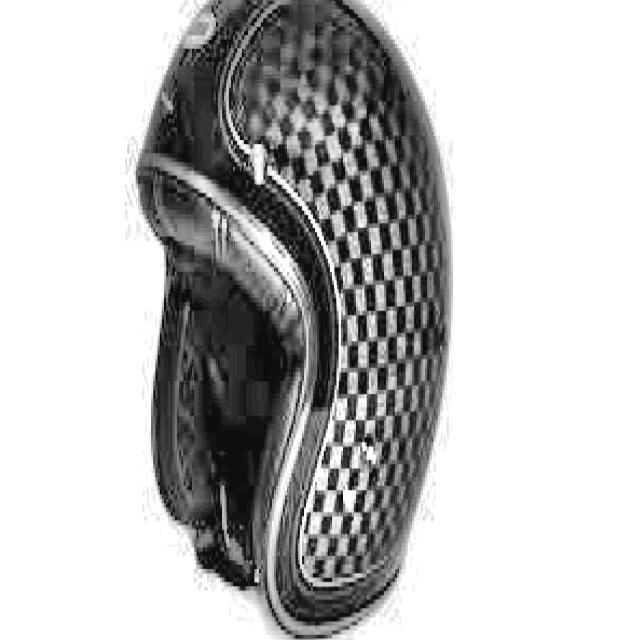Helmet: (134, 0, 462, 640)
